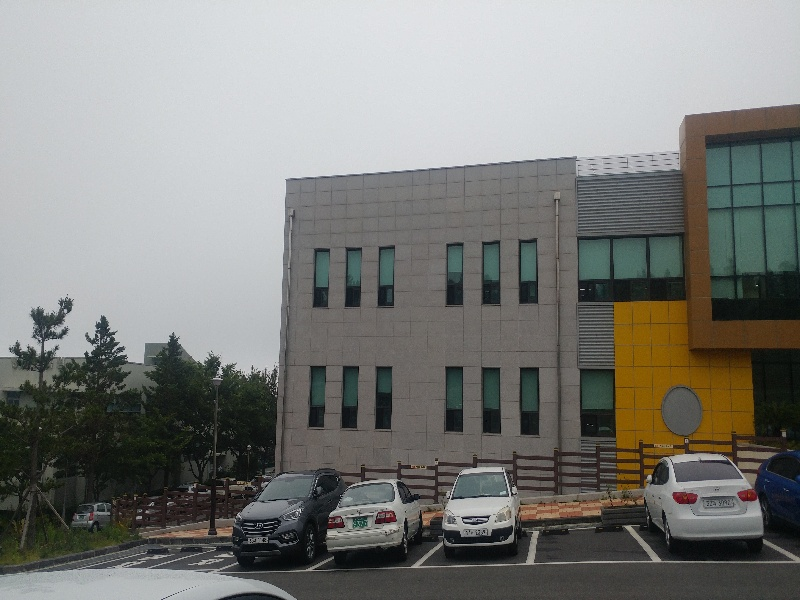Digital Library: (285, 173, 793, 442)
